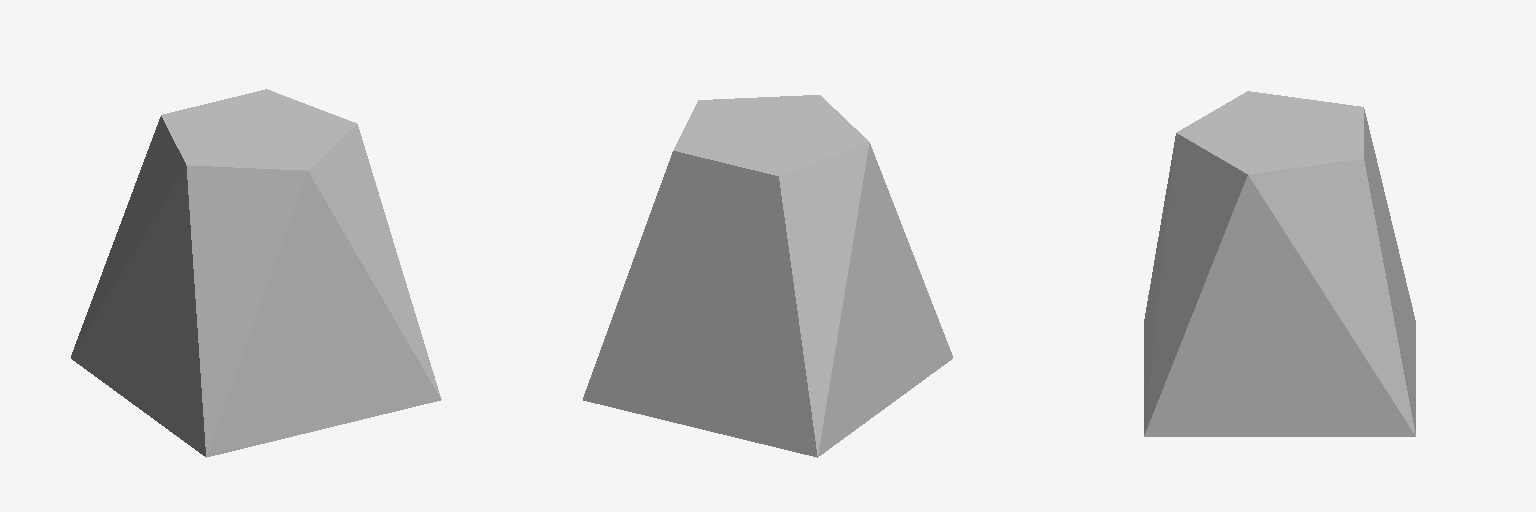
File: iso54.obj
3 renders of one model, left to right at view 1: azimuth 30°, elevation 25°; view 2: azimuth 150°, elevation 25°; view 3: azimuth 270°, elevation 25°, orthographic.
Bounding box in the file's own units: 1 × 1 × 1.